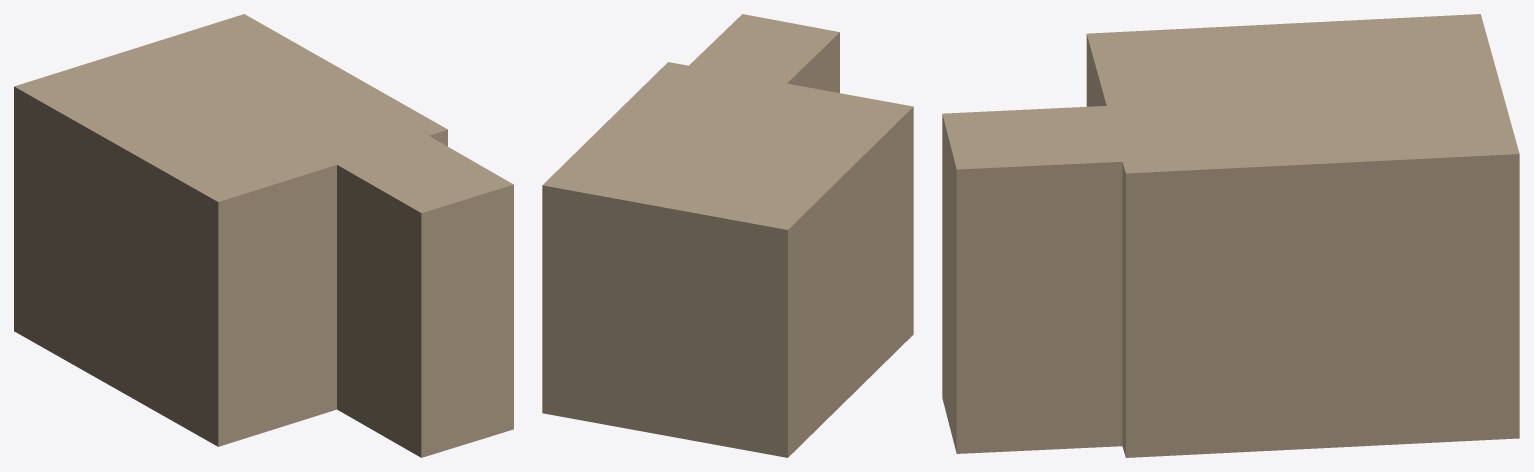
Rendered from bld_107639277.dae.
3 views of the same model, side by side, from view 1: azimuth 30°, elevation 25°; view 2: azimuth 150°, elevation 25°; view 3: azimuth 270°, elevation 25° (orthographic). The views are drawn at different scales.
Visible parts, largest first — view 1: bld_107639277; view 2: bld_107639277; view 3: bld_107639277.
Boxes of the visible parts, box(x1,y1,x2,y2) form: bld_107639277: box(14, 14, 513, 457); bld_107639277: box(542, 14, 913, 457); bld_107639277: box(942, 14, 1519, 457).
Bounding box in the file's own units: 9.62 × 14.72 × 8.
